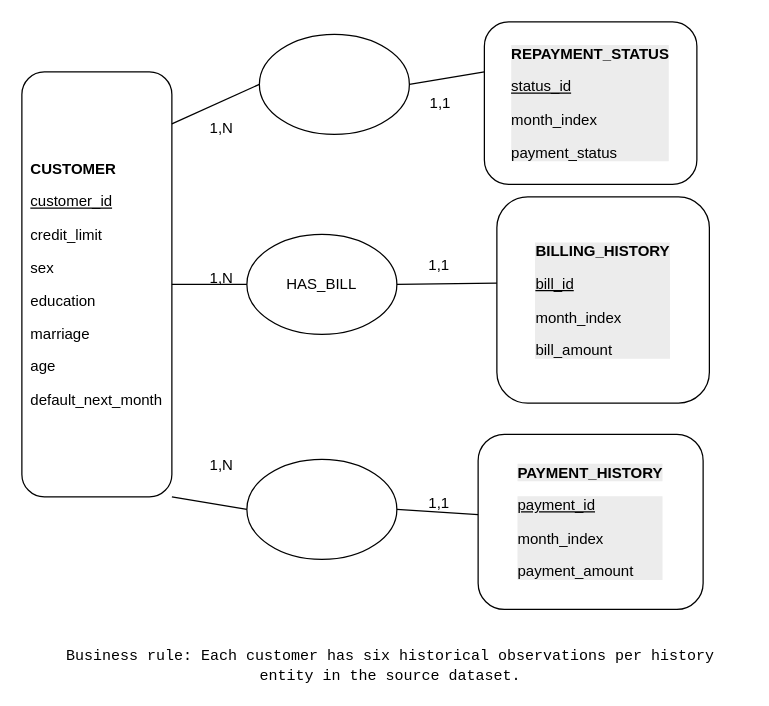
This 769x706 diagram has some shape labels left out. The shapes that lost their labels are listed below. From the top down, each one's centre as x and y in pixels, then its label:
point 333,83: HAS_STATUS
point 321,508: HAS_PAYMENT
